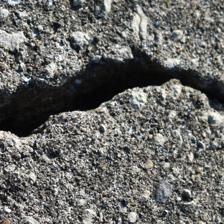Crack: (2, 25, 217, 123)
